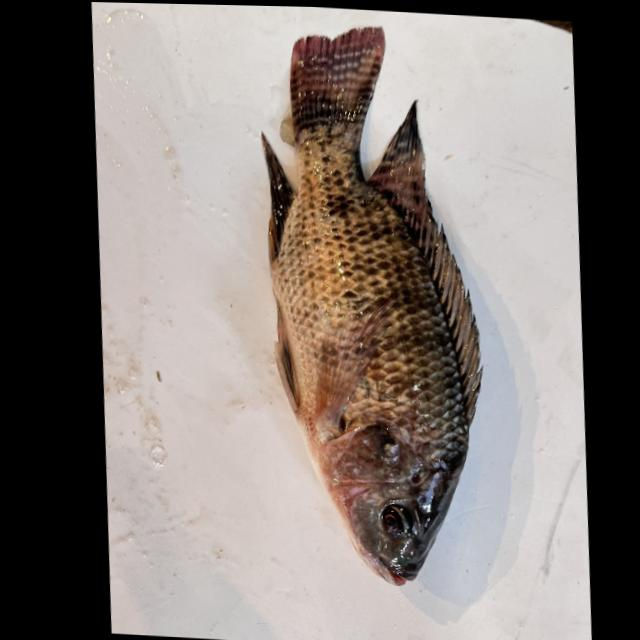Tilapia: (236, 17, 509, 594)
